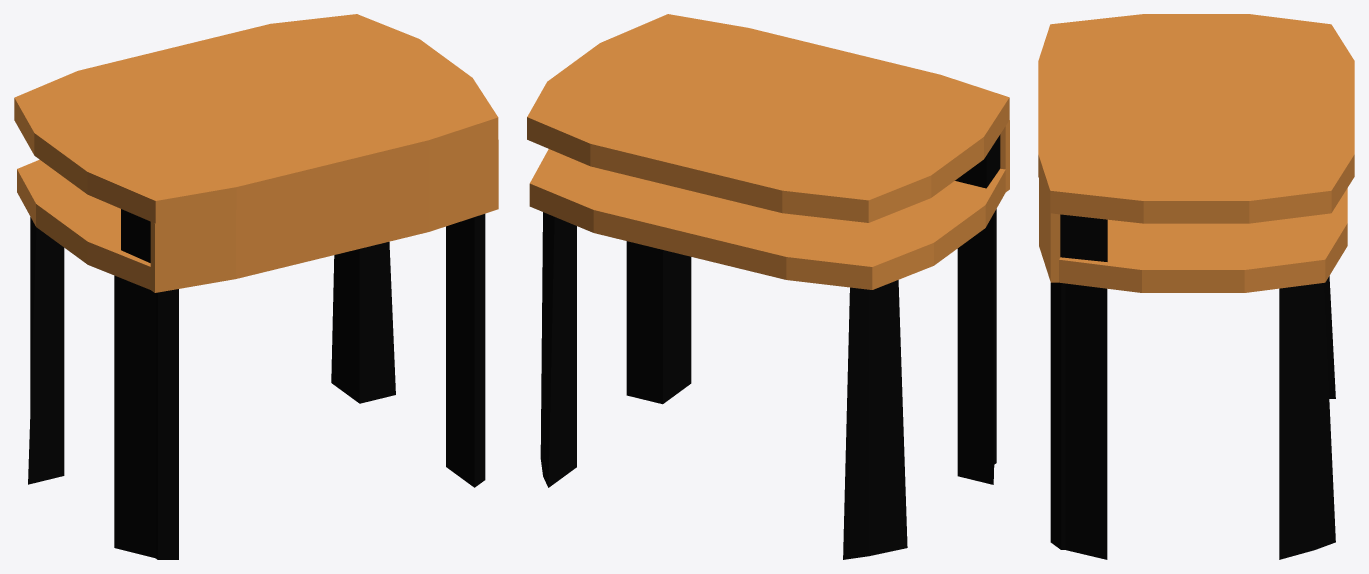
The model's file is table.fbx.
The picture shows the model from 3 angles, left to right: view 1: azimuth 30°, elevation 25°; view 2: azimuth 150°, elevation 25°; view 3: azimuth 270°, elevation 25°; orthographic projection.
Parts seen in each view (by area): view 1: Cube.002; view 2: Cube.002; view 3: Cube.002.
Part boxes in pixels (<box>): Cube.002: <box>14,14,498,559</box>; Cube.002: <box>527,14,1009,559</box>; Cube.002: <box>1038,14,1354,559</box>.
Bounding box in the file's own units: 288 × 260 × 205.
